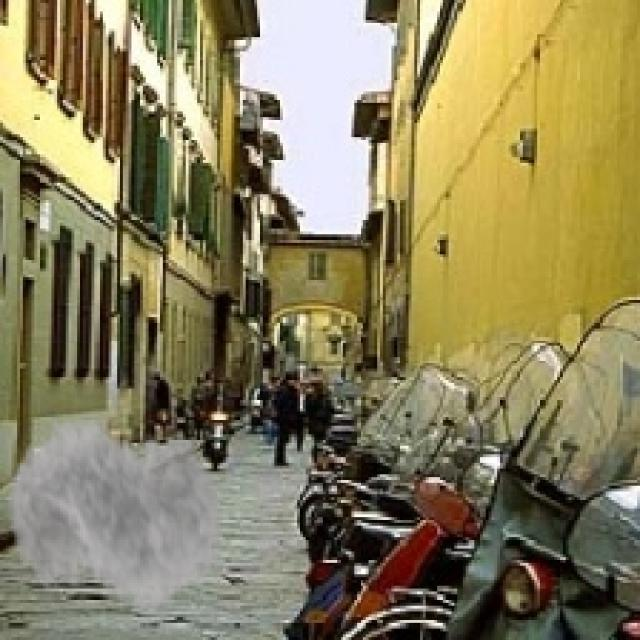Smoke: (6, 392, 226, 632)
